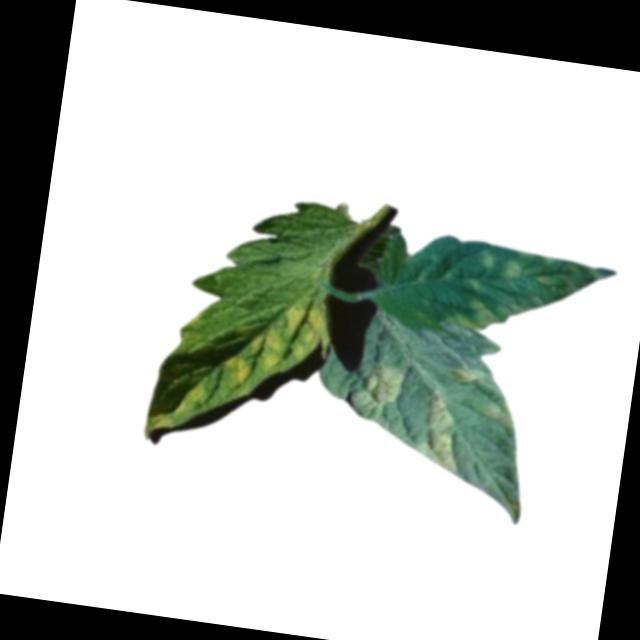Leaf_Mold: (223, 290, 337, 398), (409, 385, 470, 475), (347, 360, 408, 415), (448, 296, 502, 333), (172, 381, 205, 418), (446, 361, 486, 387), (472, 247, 499, 275), (501, 255, 525, 282)
